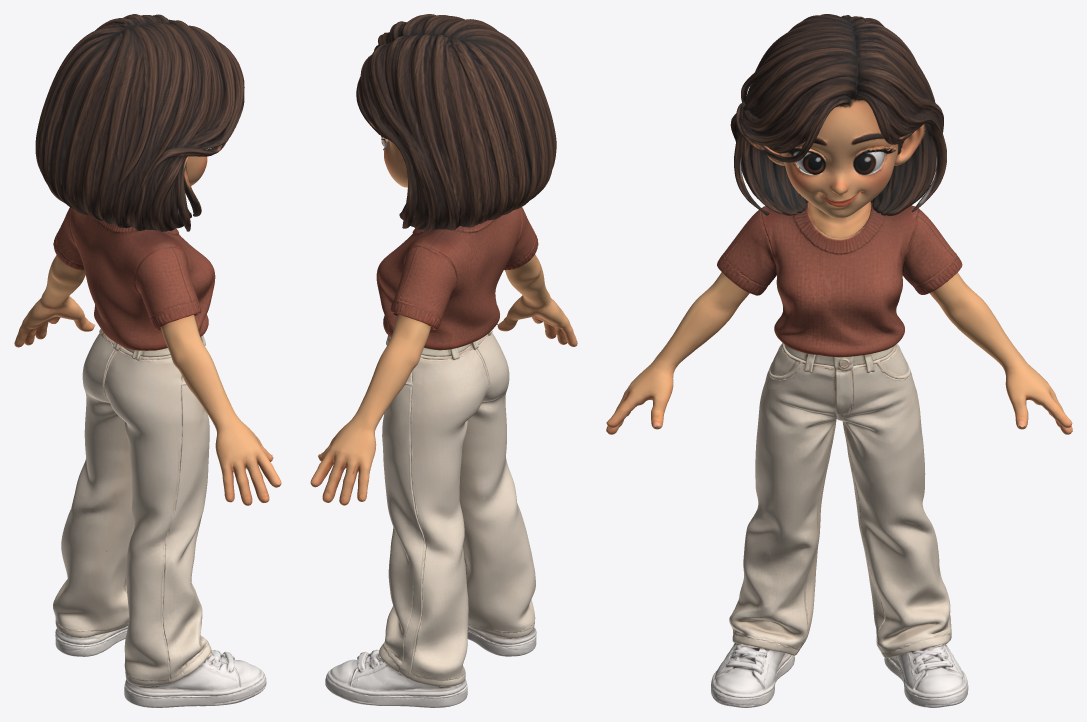
File: staff-female.glb
The picture shows the model from 3 angles, left to right: view 1: azimuth 30°, elevation 25°; view 2: azimuth 150°, elevation 25°; view 3: azimuth 270°, elevation 25°; orthographic projection.
Parts seen in each view (by area): view 1: tripo_node_1000813f-63cb-425b-8e1c-6e106fd5782a; view 2: tripo_node_1000813f-63cb-425b-8e1c-6e106fd5782a; view 3: tripo_node_1000813f-63cb-425b-8e1c-6e106fd5782a.
Boxes of the visible parts, <box> form: tripo_node_1000813f-63cb-425b-8e1c-6e106fd5782a: <box>14,14,281,707</box>; tripo_node_1000813f-63cb-425b-8e1c-6e106fd5782a: <box>310,14,577,707</box>; tripo_node_1000813f-63cb-425b-8e1c-6e106fd5782a: <box>606,14,1072,707</box>.
Bounding box in the file's own units: 0.288 × 0.9807 × 0.634.
Materials: 1 (1 with a texture image).
